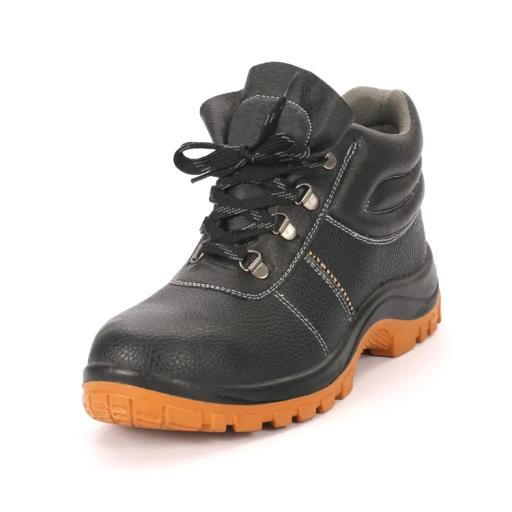safety_boots: (64, 64, 464, 435)
